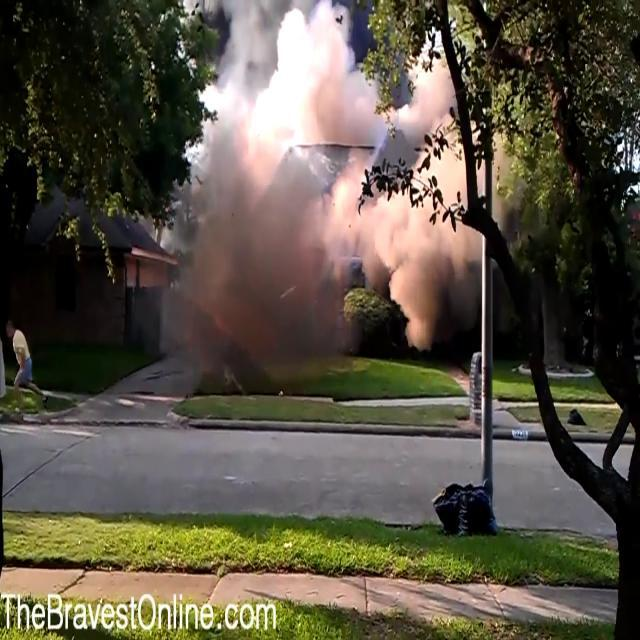Smoke: (156, 1, 480, 379)
